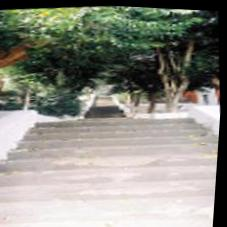Animal: (9, 143, 193, 227)
